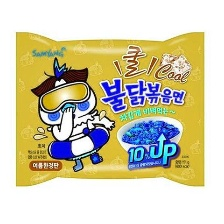snack: (7, 21, 211, 198)
